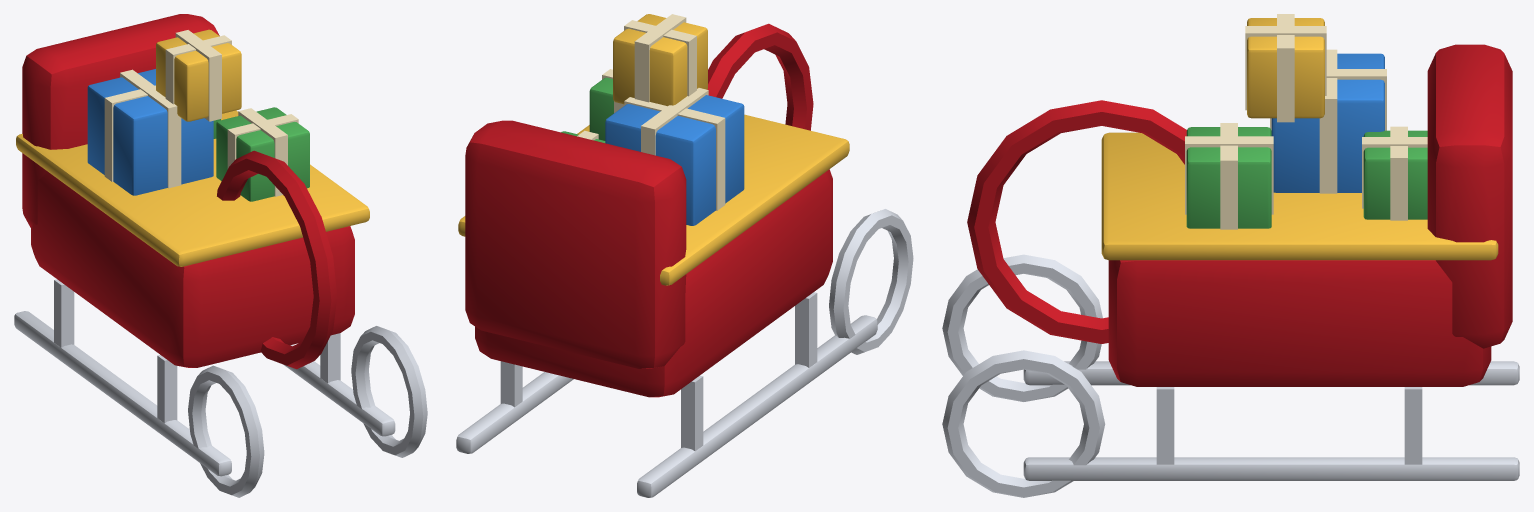
The model's file is HeroNewYear.fbx.
The picture shows the model from 3 angles, left to right: view 1: azimuth 30°, elevation 25°; view 2: azimuth 150°, elevation 25°; view 3: azimuth 270°, elevation 25°; orthographic projection. The views are drawn at different scales.
Visible parts, largest first — view 1: HeroNewYear; view 2: HeroNewYear; view 3: HeroNewYear.
Part boxes in pixels (x1,y1,x2,y2): HeroNewYear: [14, 14, 427, 497]; HeroNewYear: [456, 14, 913, 497]; HeroNewYear: [942, 14, 1519, 497].
Bounding box in the file's own units: 380 × 655 × 815.
